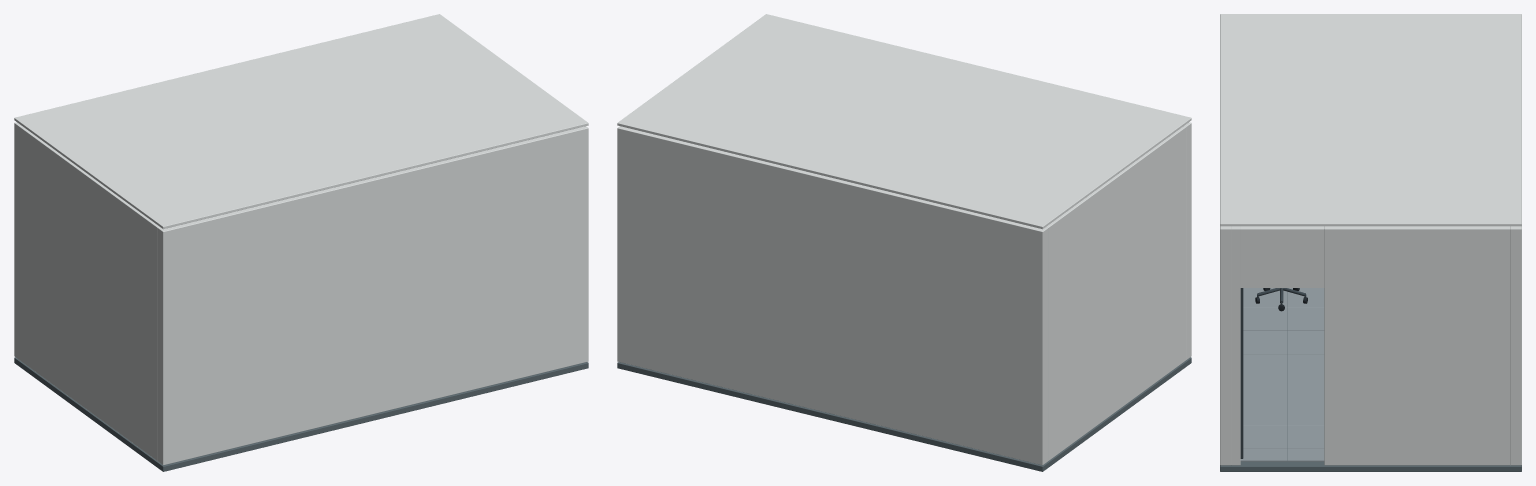
The model's file is room_environment.glb.
The picture shows the model from 3 angles, left to right: view 1: azimuth 30°, elevation 25°; view 2: azimuth 150°, elevation 25°; view 3: azimuth 270°, elevation 25°; orthographic projection.
Visible parts, largest first — view 1: Room_FrontWall, Room_Roof_Slab, Room_LeftWall, Room_Floor_Slab, Room_BackWall; view 2: Room_BackWall, Room_Roof_Slab, Room_LeftWall, Room_Floor_Slab, Room_FrontWall; view 3: Room_Roof_Slab, Room_RightWallSegment.001, Room_DoorHeaderWall, Room_BackWall, Room_FrontWall, Room_Floor_Slab, Room_RightWallSegment, Room_FloorTile_6_0, Room_FloorTile_3_0, Room_FloorTile_4_0, Room_FloorTile_5_0, Room_FloorTile_7_0 (+12 smaller).
Part boxes in pixels (x1,y1,x2,y2): Room_FrontWall: (157, 126, 588, 465); Room_Roof_Slab: (14, 14, 588, 229); Room_LeftWall: (19, 126, 159, 460); Room_Floor_Slab: (14, 357, 588, 471); Room_BackWall: (14, 122, 21, 359); Room_BackWall: (617, 126, 1048, 465); Room_Roof_Slab: (617, 14, 1191, 229); Room_LeftWall: (1046, 126, 1186, 460); Room_Floor_Slab: (617, 357, 1191, 471); Room_FrontWall: (1184, 122, 1191, 359); Room_Roof_Slab: (1220, 14, 1521, 226); Room_RightWallSegment.001: (1324, 226, 1510, 465); Room_DoorHeaderWall: (1240, 226, 1324, 287); Room_BackWall: (1510, 226, 1521, 465); Room_FrontWall: (1220, 226, 1231, 465); Room_Floor_Slab: (1220, 292, 1521, 471); Room_RightWallSegment: (1231, 226, 1240, 465); Room_FloorTile_6_0: (1243, 401, 1286, 425); Room_FloorTile_3_0: (1243, 331, 1286, 354); Room_FloorTile_4_0: (1243, 354, 1286, 377); Room_FloorTile_5_0: (1243, 378, 1286, 401); Room_FloorTile_7_0: (1243, 425, 1286, 448).
Size of the model in its own units: 5.34 by 2.94 by 3.24.
